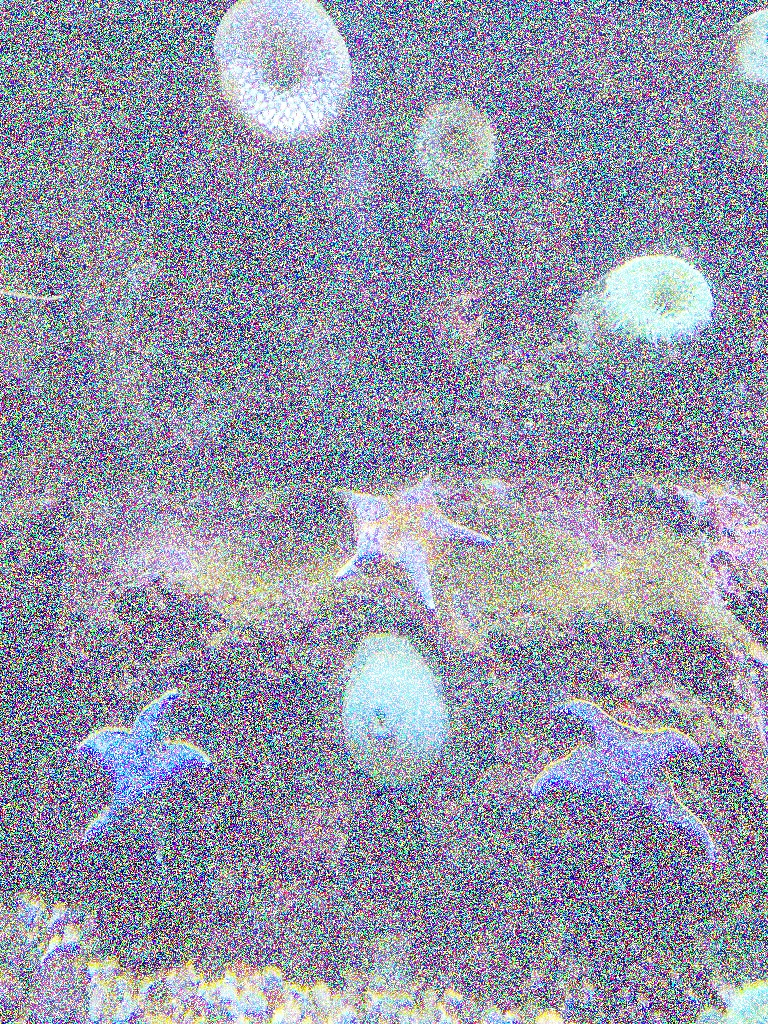starfish: (532, 696, 714, 896), (67, 684, 215, 870), (329, 474, 493, 614)
